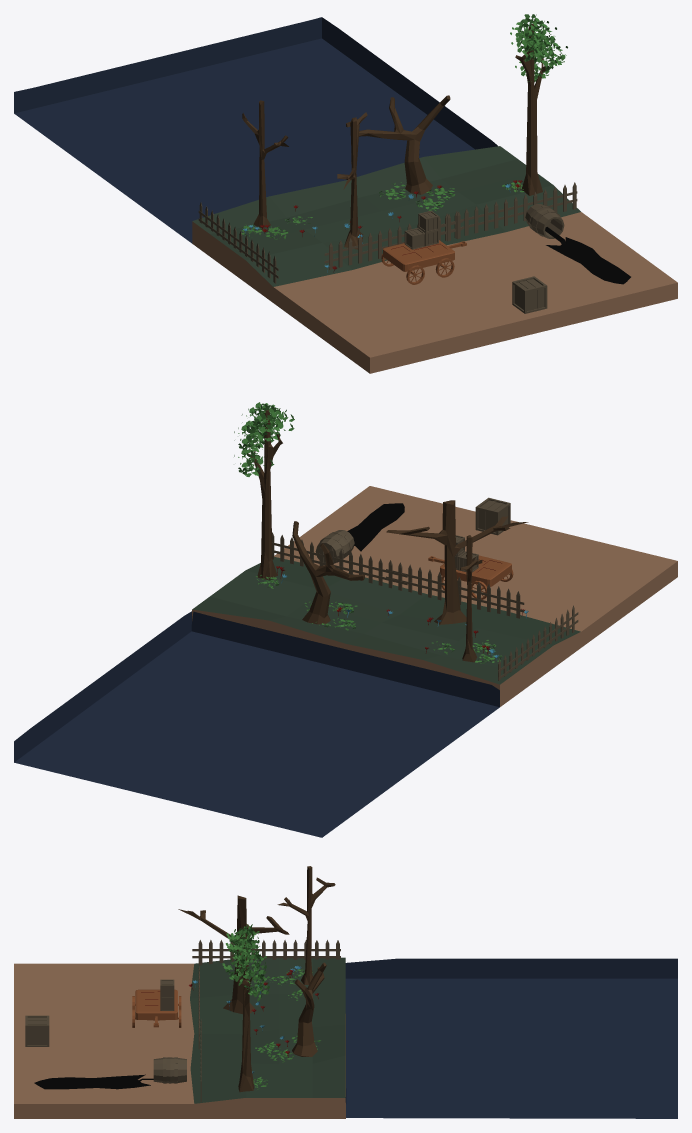
File: COMEÇO DA BASE DOS CAÇADORES 100_ OFICIAL.fbx
3 views of the same model, one above another, from view 1: azimuth 30°, elevation 25°; view 2: azimuth 150°, elevation 25°; view 3: azimuth 270°, elevation 25° (orthographic). The views are drawn at different scales.
Visible parts, largest first — view 1: Base.002, rio.004, tronco.002, tronco 5.001, oelo, cerca.006, plataforma, tronco 3.005, cerca.003, tronco 3.004, Cube.012, Cube.008 (+3 smaller); view 2: rio.004, Base.002, tronco 3.005, tronco.002, tronco 5.001, oelo, cerca.006, cerca.003, plataforma, Cube.012, tronco 3.004, cerca.001 (+3 smaller); view 3: rio.004, Base.002, tronco 3.005, tronco.002, oelo, tronco 5.001, tronco 3.004, plataforma, cerca.001, barril.001, Cube.012, suporte cerca.001 (+2 smaller).
Part boxes in pixels (box(x1,y1,x2,y2)): Base.002: box(192, 146, 677, 373); rio.004: box(14, 17, 497, 243); tronco.002: box(359, 95, 450, 194); tronco 5.001: box(515, 24, 549, 195); oelo: box(545, 227, 630, 284); cerca.006: box(445, 182, 576, 240); plataforma: box(383, 240, 454, 271); tronco 3.005: box(337, 112, 367, 249); cerca.003: box(329, 211, 460, 270); tronco 3.004: box(242, 100, 288, 228); Cube.012: box(512, 276, 547, 313); Cube.008: box(404, 210, 438, 249); rio.004: box(14, 611, 499, 837); Base.002: box(192, 486, 677, 706); tronco 3.005: box(386, 500, 528, 624); tronco.002: box(292, 521, 364, 624); tronco 5.001: box(248, 410, 282, 579); oelo: box(347, 503, 404, 551); cerca.006: box(272, 532, 402, 590); cerca.003: box(388, 560, 520, 618); plataforma: box(440, 555, 511, 586); Cube.012: box(475, 497, 510, 535); tronco 3.004: box(460, 535, 482, 662); cerca.001: box(498, 605, 574, 680); rio.004: box(345, 958, 677, 1118); Base.002: box(14, 957, 345, 1118); tronco 3.005: box(178, 895, 289, 1014); tronco.002: box(292, 962, 326, 1056); oelo: box(34, 1074, 153, 1089); tronco 5.001: box(238, 933, 254, 1092); tronco 3.004: box(277, 866, 335, 984); plataforma: box(135, 989, 177, 1019); cerca.001: box(198, 940, 339, 965); barril.001: box(153, 1057, 186, 1083); Cube.012: box(25, 1015, 49, 1046); suporte cerca.001: box(192, 949, 340, 958).
Size of the model in its own units: 1035 by 611 by 2002.
26 materials, 26 textured.
